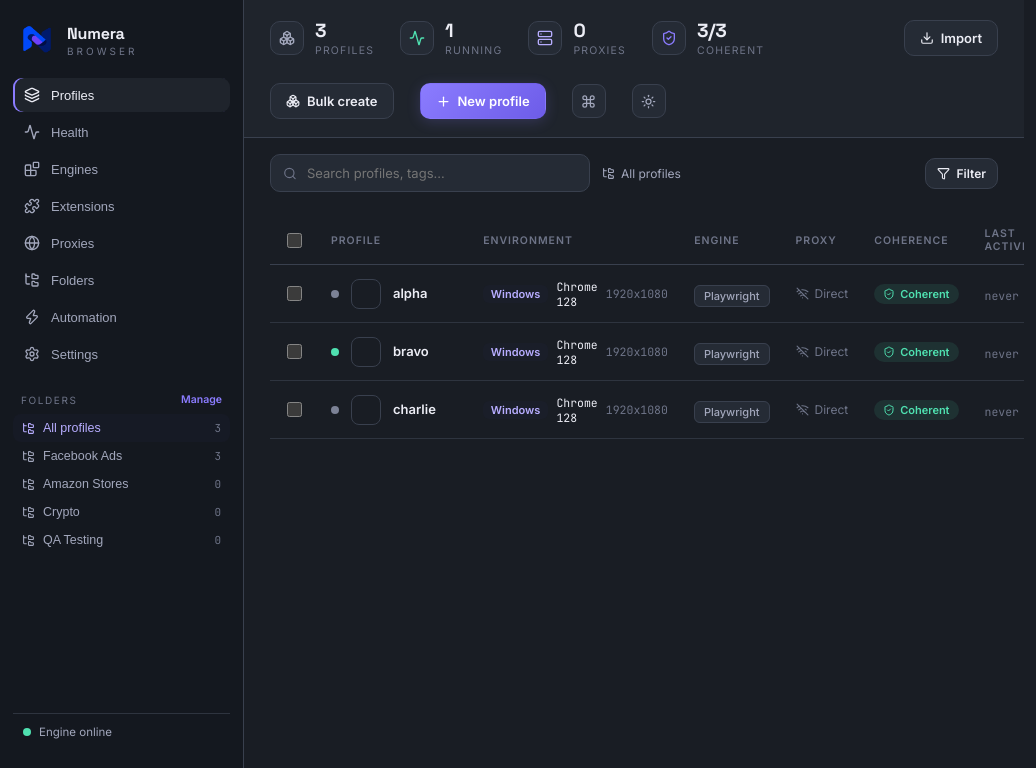
it: bulk Launch starts the stopped profiles and never stops a running one
Expected: the text "Engine online" is shown, [39,725,112,739]
Expected: the text "alpha" is shown, [393,284,427,300]
Click the checkbox in the row of "Environment" at (294, 240), box [287,232,302,248]
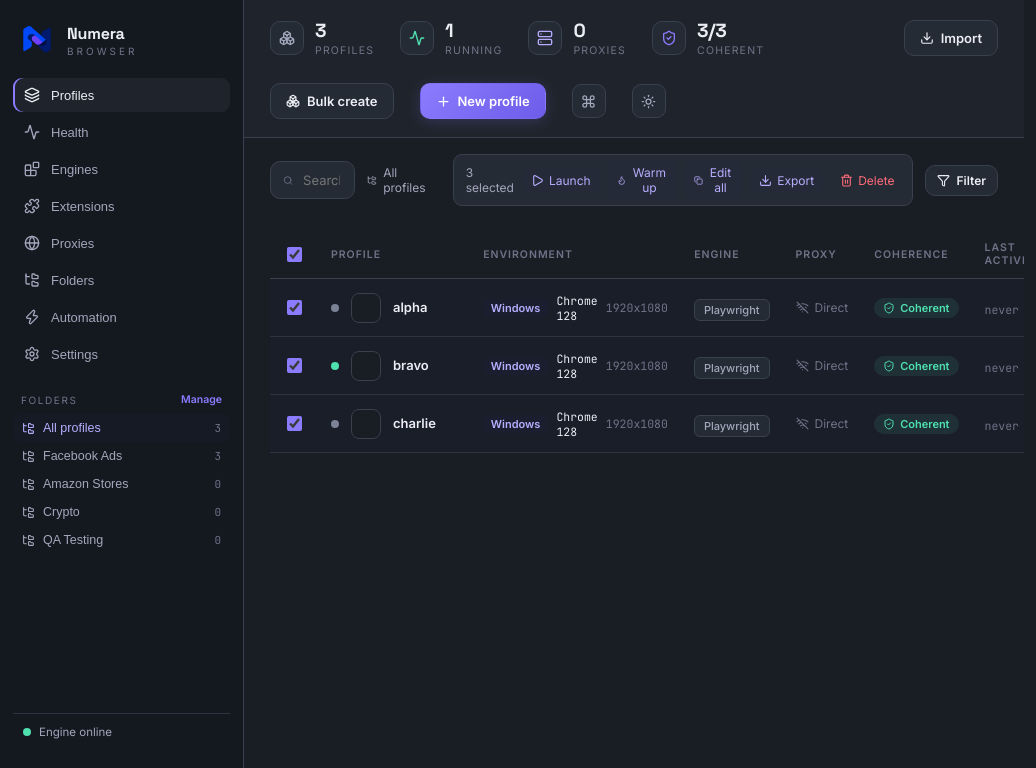
Click the button "Launch" at (561, 180), box [522,168,600,192]
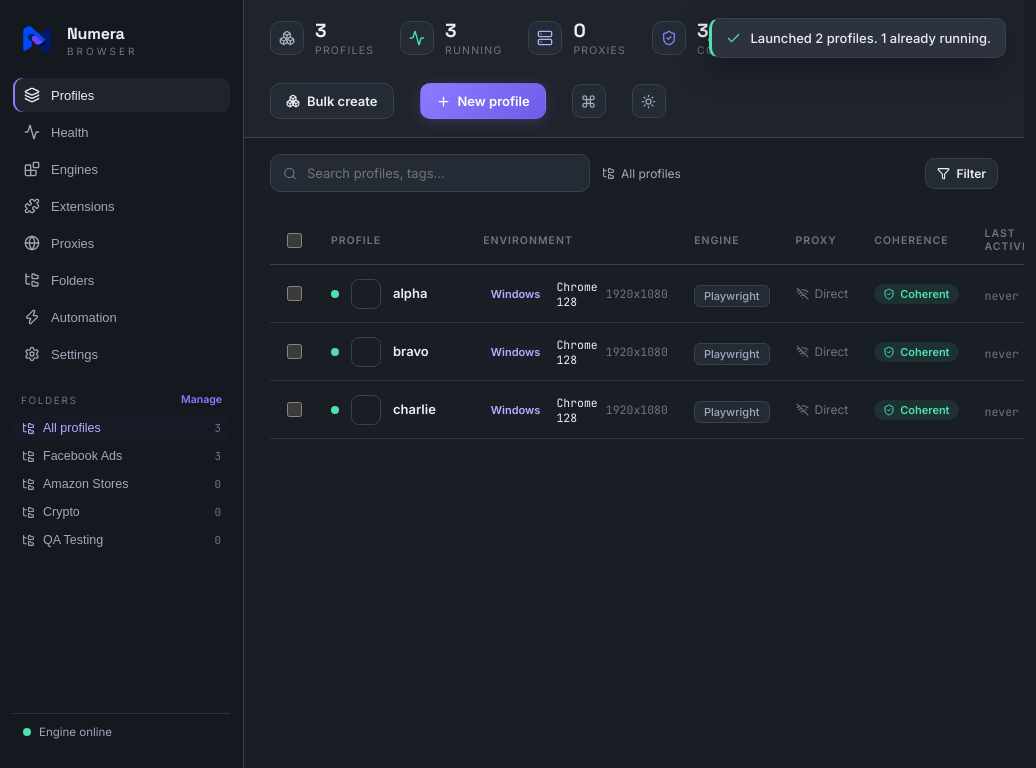
Expected: the text "Launched 2 profiles. 1 already running." is shown, [750,30,991,46]
